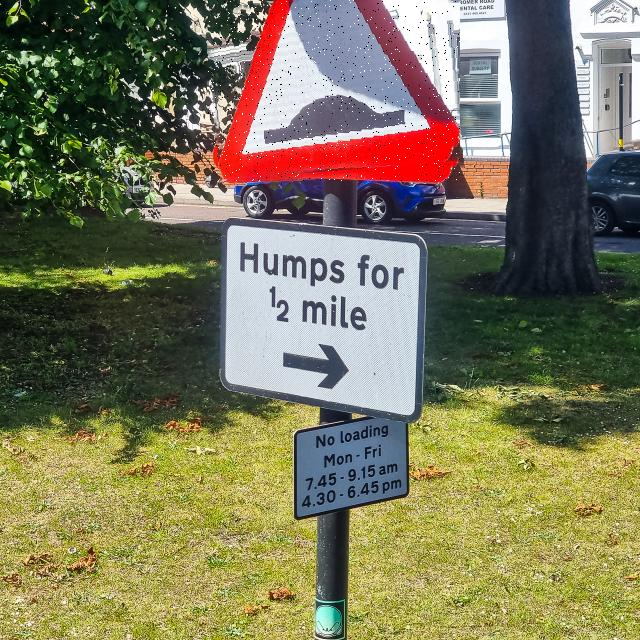hump: (207, 0, 460, 181)
